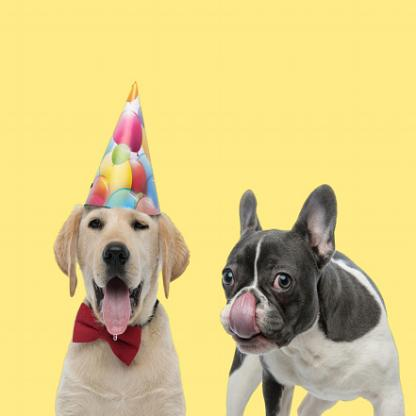Labarador Retriever: (50, 206, 188, 416)
